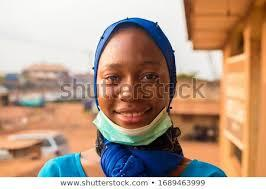Wore Mask Incorrectly: (93, 31, 177, 152)
